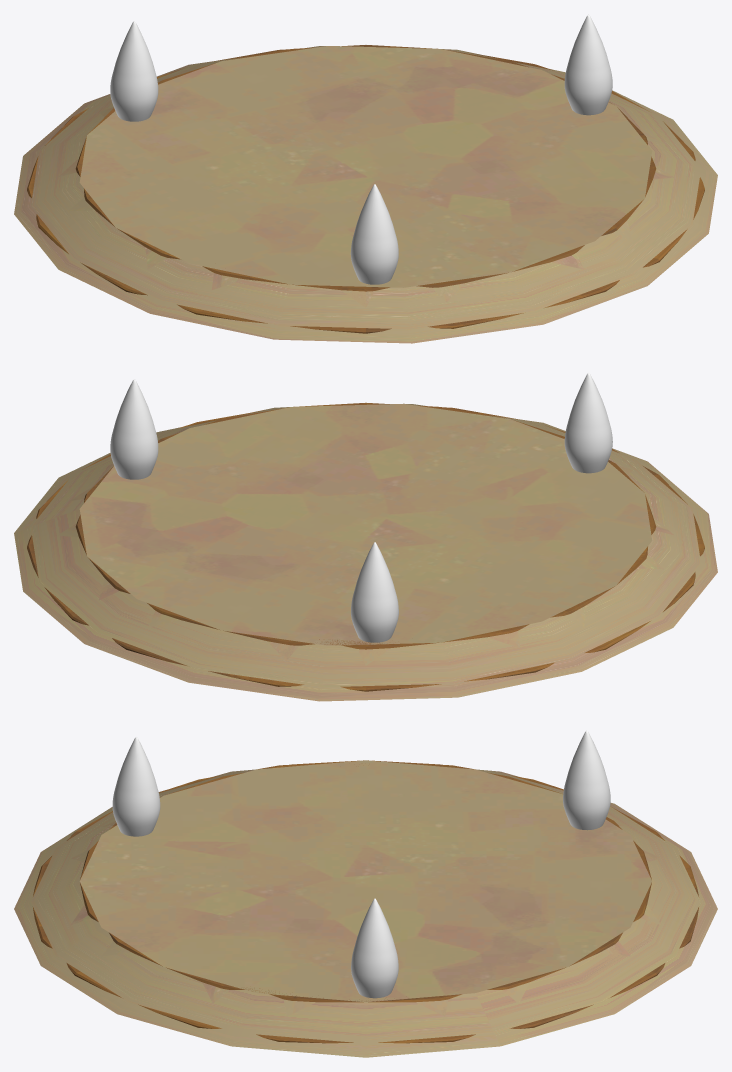
File: GravityFlipper.fbx
3 views of the same model, one above another, from view 1: azimuth 30°, elevation 25°; view 2: azimuth 150°, elevation 25°; view 3: azimuth 270°, elevation 25° (orthographic).
Parts seen in each view (by area): view 1: GravityFlipper_Base_COL, GravityFlipper_Crystals, GravityFlipper_Base; view 2: GravityFlipper_Base_COL, GravityFlipper_Crystals, GravityFlipper_Base; view 3: GravityFlipper_Base_COL, GravityFlipper_Crystals, GravityFlipper_Base.
Part boxes in pixels (bbox=[...]): GravityFlipper_Base_COL: bbox=[14, 46, 717, 343]; GravityFlipper_Crystals: bbox=[110, 14, 612, 284]; GravityFlipper_Base: bbox=[27, 45, 704, 333]; GravityFlipper_Base_COL: bbox=[14, 403, 717, 701]; GravityFlipper_Crystals: bbox=[110, 372, 612, 642]; GravityFlipper_Base: bbox=[27, 402, 704, 691]; GravityFlipper_Base_COL: bbox=[14, 760, 717, 1057]; GravityFlipper_Crystals: bbox=[112, 730, 610, 998]; GravityFlipper_Base: bbox=[33, 760, 698, 1043].
Bounding box in the file's own units: 311 × 58.72 × 311.
